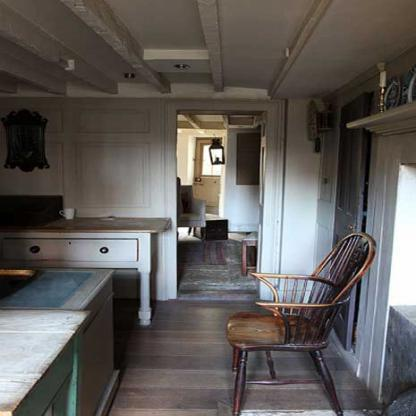chair: (225, 225, 381, 416), (176, 179, 208, 237)
